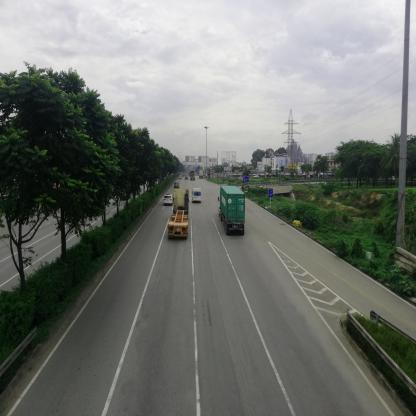car: (193, 189, 202, 205), (165, 195, 173, 207), (174, 183, 180, 189)
container: (221, 187, 246, 237), (175, 190, 190, 238)
